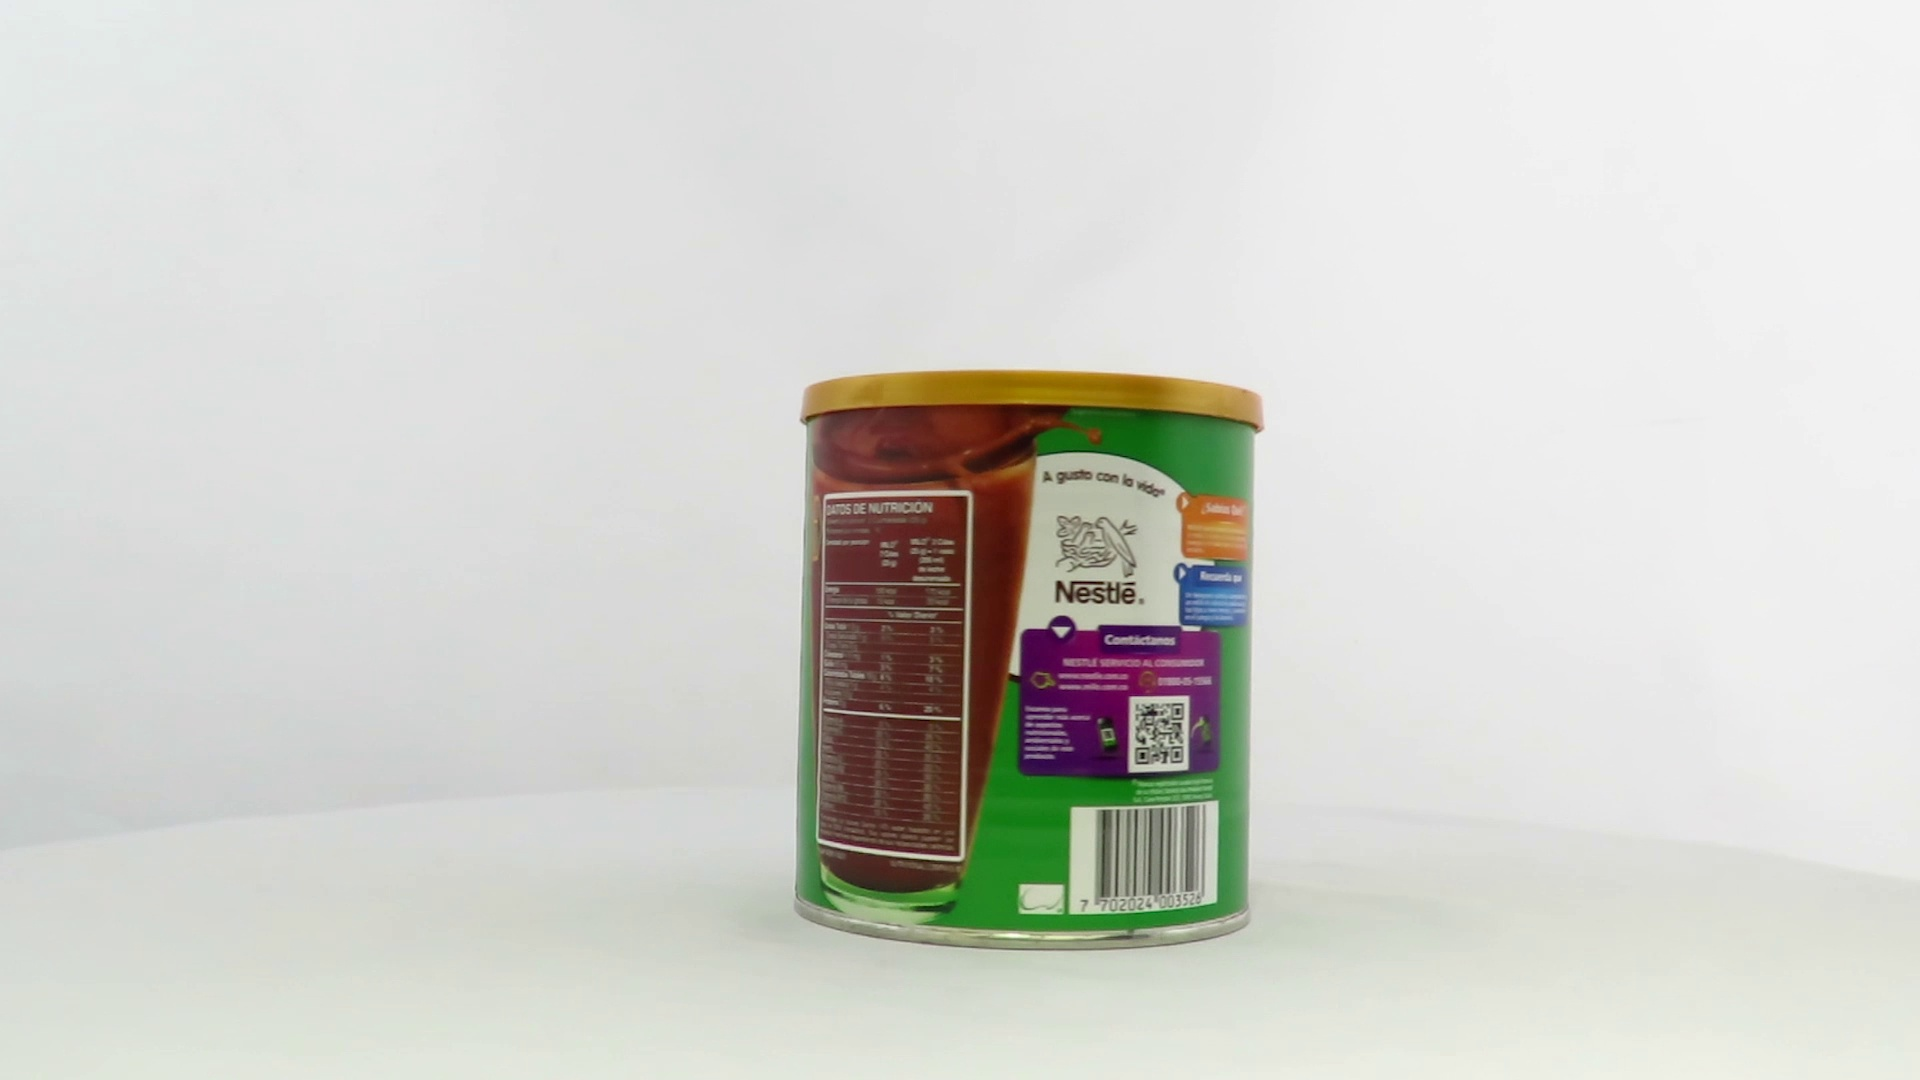COL0170203LAT40000: (789, 365, 1271, 957)
